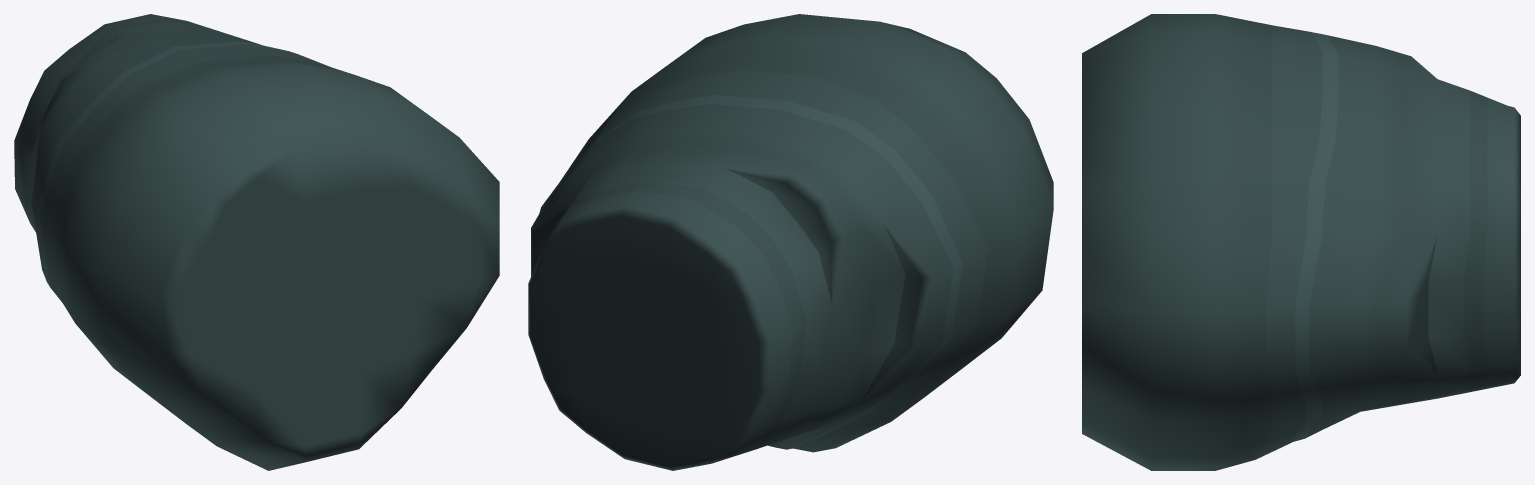
The model's file is AlienPillar.004.glb.
3 renders of one model, left to right at view 1: azimuth 30°, elevation 25°; view 2: azimuth 150°, elevation 25°; view 3: azimuth 270°, elevation 25°, orthographic. The views are drawn at different scales.
Parts seen in each view (by area): view 1: AlienPillar.004; view 2: AlienPillar.004; view 3: AlienPillar.004.
Boxes of the visible parts, x1,y1,x2,y2 form: AlienPillar.004: [14, 14, 499, 470]; AlienPillar.004: [528, 14, 1053, 470]; AlienPillar.004: [1082, 14, 1520, 470].
Size of the model in its own units: 3927 by 3518 by 3513.
